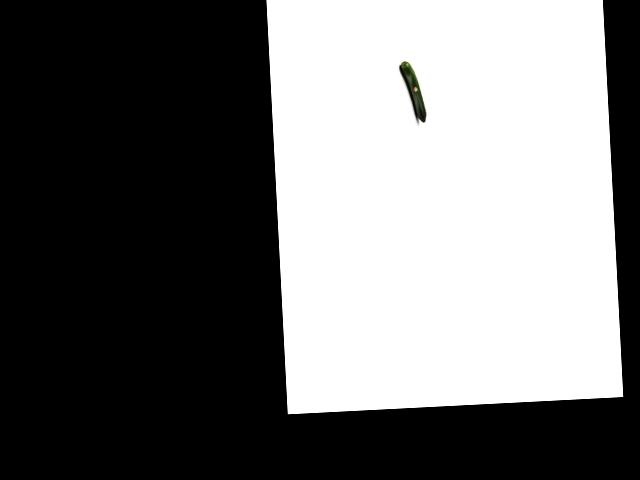cucumber: (400, 60, 426, 123)
